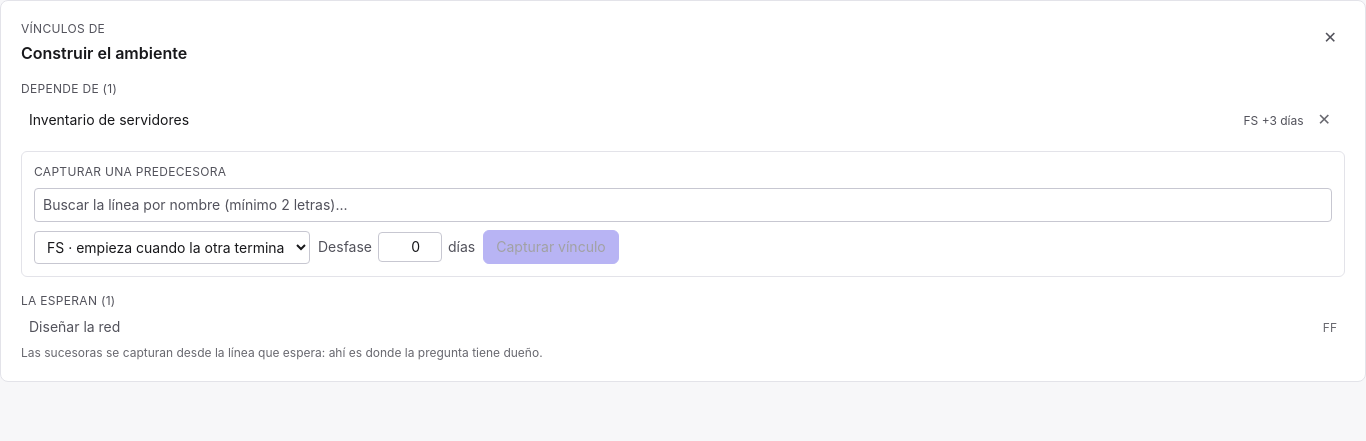
Scenario: Capturar › el buscador no ofrece a la propia línea ni a las que ya son predecesoras
The width and height of the screenshot is (1366, 441).
# Buscarse a sí misma no da nada: la línea editada no puede ser su propia predecesora.
Type "construir" into the field named "Buscar la línea predecesora" at (683, 205), box [34,188,1332,222]
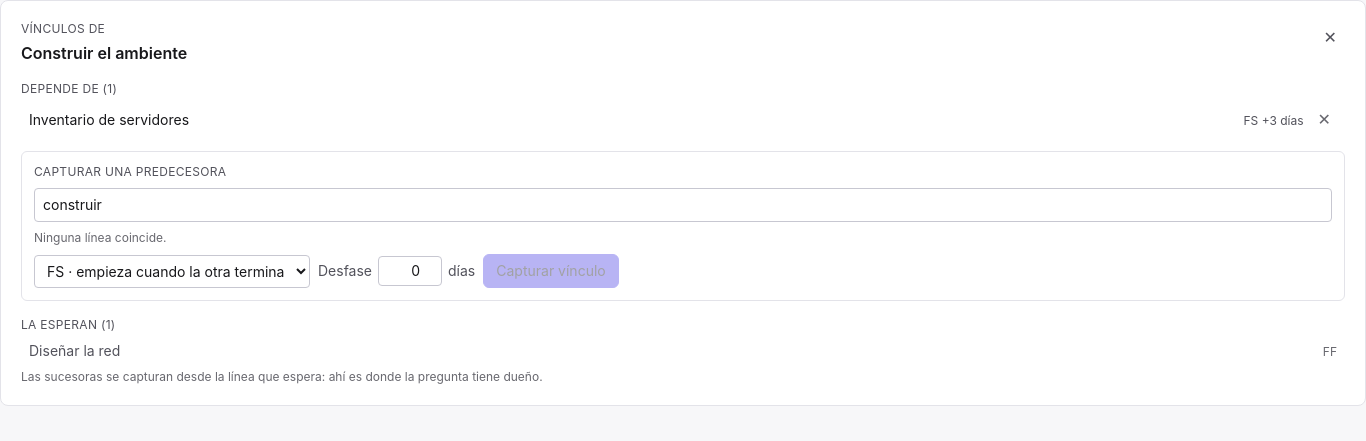
Expected: the text "Ninguna línea coincide." is shown, [34,230,166,245]
Replace the text in the field named "Buscar la línea predecesora" with "inventario" at (683, 205), box [34,188,1332,222]
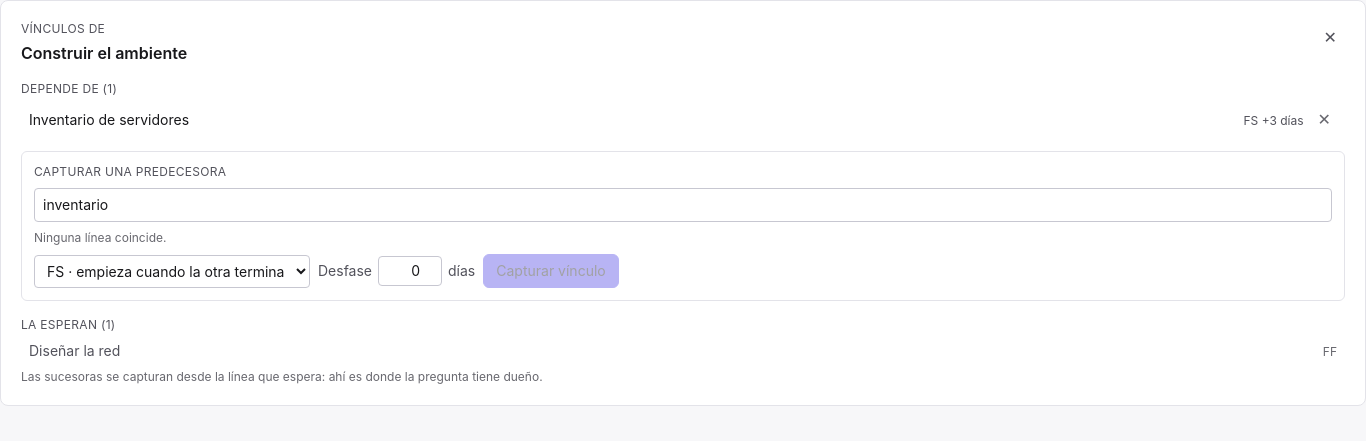
# Y la que sí puede serlo, sí.
Replace the text in the field named "Buscar la línea predecesora" with "red" at (683, 205), box [34,188,1332,222]
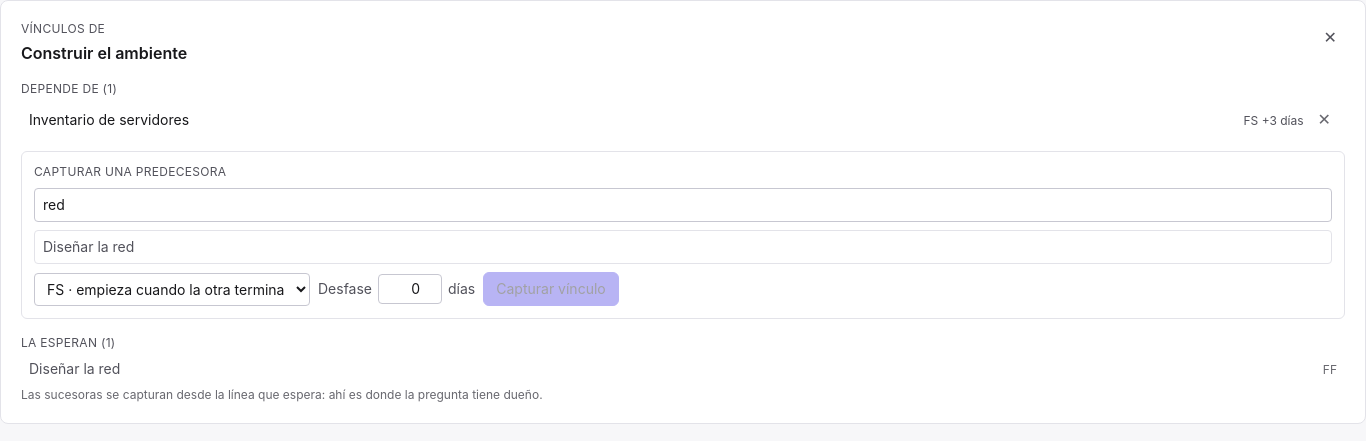
Expected: the button "Diseñar la red" is shown, [35,231,1331,263]
